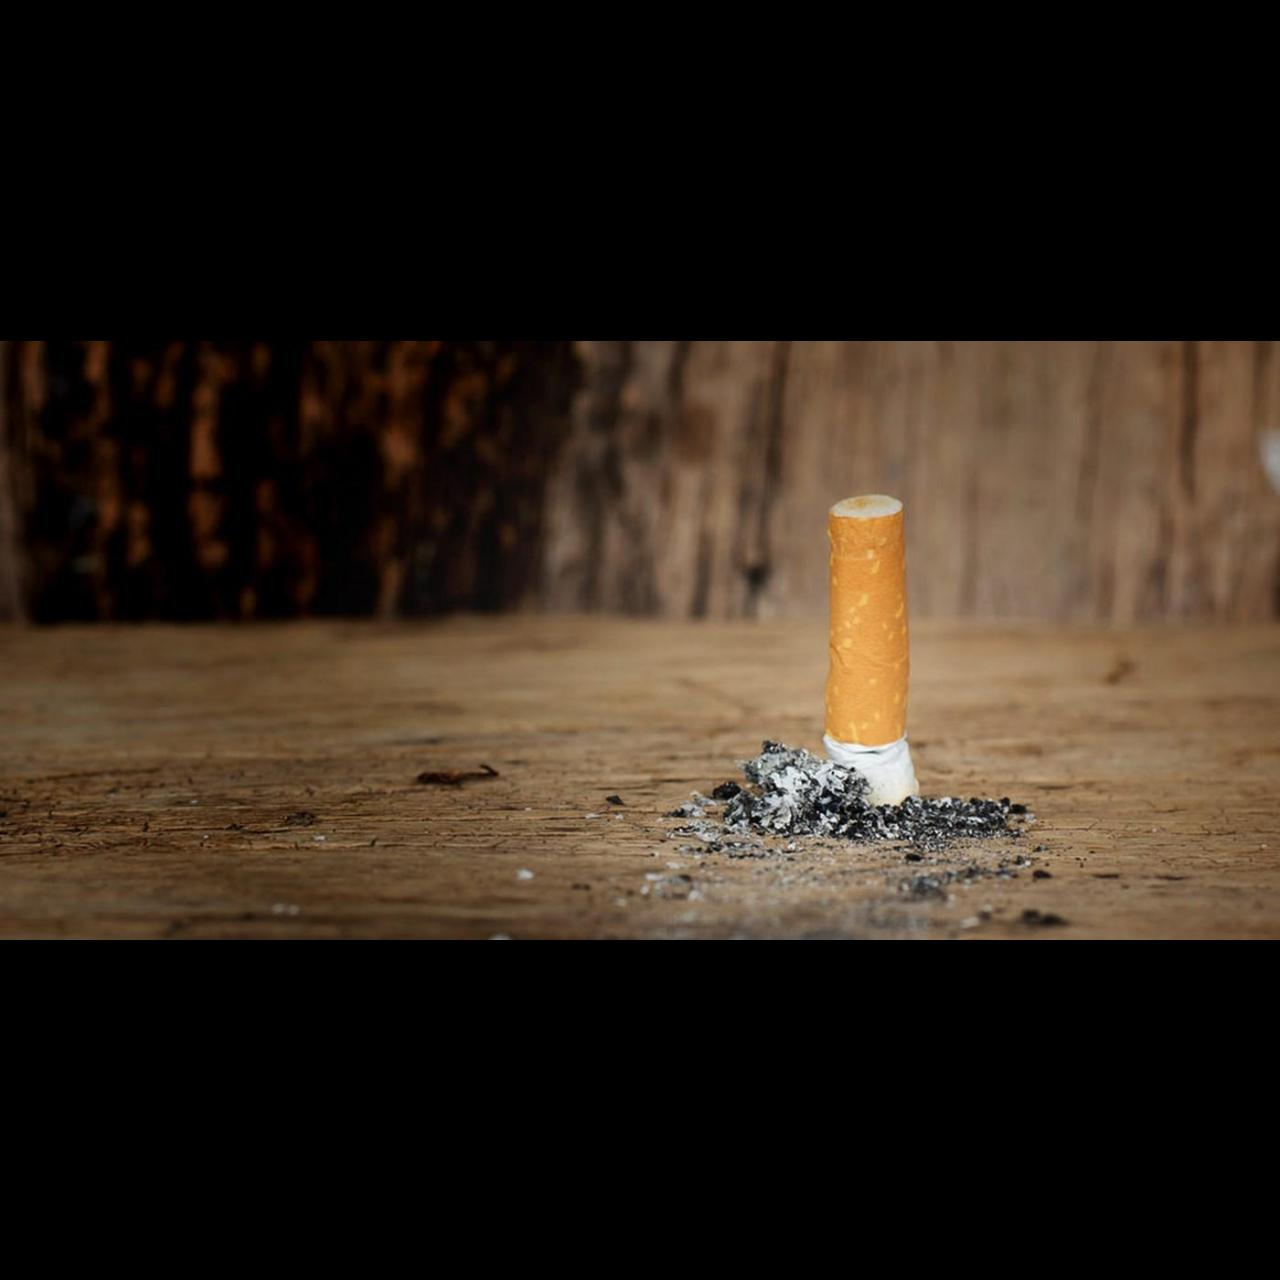cigarettes_butts: (822, 495, 919, 808)
